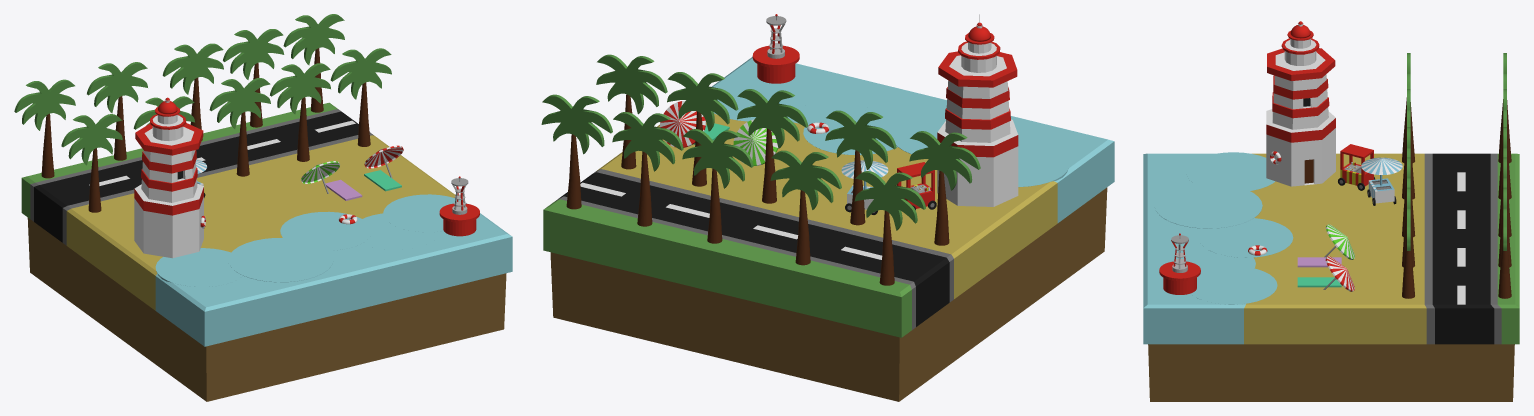
The model's file is playa.fbx.
The picture shows the model from 3 angles, left to right: view 1: azimuth 30°, elevation 25°; view 2: azimuth 150°, elevation 25°; view 3: azimuth 270°, elevation 25°; orthographic projection. The views are drawn at different scales.
Parts seen in each view (by area): view 1: Cube.001, Cube.012, Cube.005, Cube.004, Cube.006, Cube.002, Cube.053, Cube.023, Cube.029, Cube.027, Cube.021, Cube.019 (+15 smaller); view 2: Cube.001, Cube.012, Cube.023, Cube.019, Cube.031, Cube.025, Cube.027, Cube.029, Cube.021, Cube.017, Cube.033, Cube.053 (+18 smaller); view 3: Cube.001, Cube.012, Cube.005, Cube.002, Cube.004, Cube.006, Cube.003, Cube.051, Cube.065, Cube.009, Cube.058, Cube.022 (+10 smaller).
Boxes of the visible parts, <box> form: Cube.001: <box>21,102,512,401</box>; Cube.012: <box>134,123,203,258</box>; Cube.005: <box>228,237,333,282</box>; Cube.004: <box>280,211,372,250</box>; Cube.006: <box>155,248,243,286</box>; Cube.002: <box>383,194,460,232</box>; Cube.053: <box>61,114,122,165</box>; Cube.023: <box>283,14,344,65</box>; Cube.029: <box>330,48,391,99</box>; Cube.027: <box>270,63,330,114</box>; Cube.021: <box>162,43,223,94</box>; Cube.019: <box>87,62,147,113</box>; Cube.001: <box>543,57,1114,401</box>; Cube.012: <box>937,51,1018,206</box>; Cube.023: <box>541,94,612,154</box>; Cube.019: <box>770,150,841,209</box>; Cube.031: <box>737,89,808,148</box>; Cube.025: <box>612,112,683,171</box>; Cube.027: <box>667,72,738,131</box>; Cube.029: <box>596,54,667,114</box>; Cube.021: <box>682,129,753,188</box>; Cube.017: <box>854,171,925,230</box>; Cube.033: <box>825,110,896,169</box>; Cube.053: <box>909,131,980,190</box>; Cube.001: <box>1143,153,1519,401</box>; Cube.012: <box>1266,48,1335,186</box>; Cube.005: <box>1154,183,1262,228</box>; Cube.002: <box>1190,265,1277,304</box>; Cube.004: <box>1198,218,1293,257</box>; Cube.006: <box>1186,152,1275,190</box>; Cube.003: <box>1165,245,1255,270</box>; Cube.051: <box>1159,261,1200,294</box>; Cube.065: <box>1340,144,1373,186</box>; Cube.009: <box>1281,38,1319,65</box>; Cube.058: <box>1361,157,1402,174</box>; Cube.022: <box>1498,234,1511,298</box>.
Size of the model in its own units: 722 by 523 by 696.
